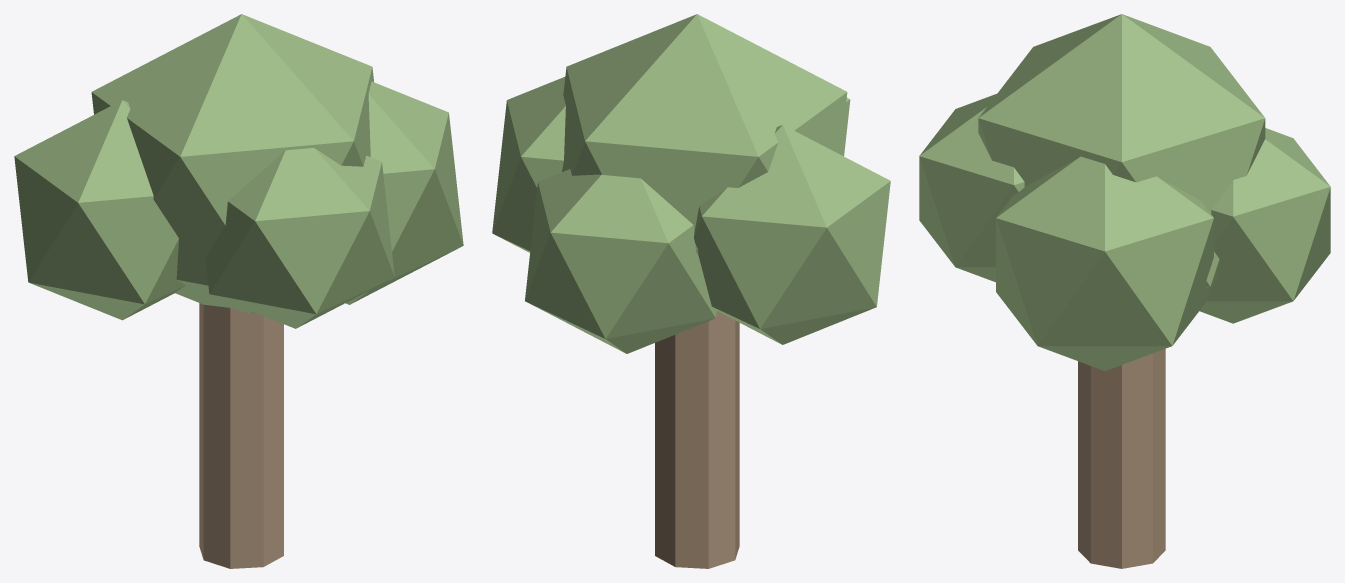
Rendered from mulberry_tree_bare.glb.
The picture shows the model from 3 angles, left to right: view 1: azimuth 30°, elevation 25°; view 2: azimuth 150°, elevation 25°; view 3: azimuth 270°, elevation 25°; orthographic projection.
Parts seen in each view (by area): view 1: mulberry_tree_bare; view 2: mulberry_tree_bare; view 3: mulberry_tree_bare.
Part boxes in pixels (<box>): mulberry_tree_bare: <box>14,14,463,568</box>; mulberry_tree_bare: <box>492,14,890,568</box>; mulberry_tree_bare: <box>919,14,1330,568</box>.
Size of the model in its own units: 1.35 by 1.75 by 1.22.
